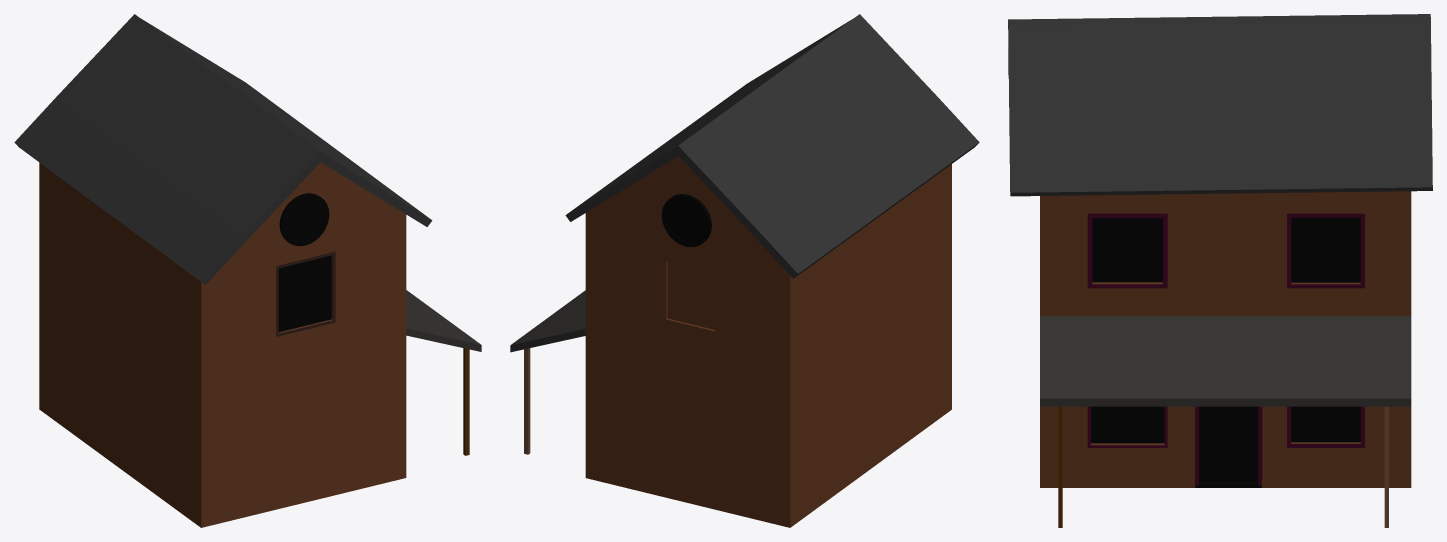
The model's file is nepali house .fbx.
The picture shows the model from 3 angles, left to right: view 1: azimuth 30°, elevation 25°; view 2: azimuth 150°, elevation 25°; view 3: azimuth 270°, elevation 25°; orthographic projection. The views are drawn at different scales.
Visible parts, largest first — view 1: main wall, roof, circle window.001, suport poll; view 2: main wall, roof, circle window.002, support poll 1; view 3: main wall, roof, suport poll, support poll 1.
Part boxes in pixels (x1,y1,x2,y2): main wall: (39,162,481,527); roof: (14,14,432,284); circle window.001: (279,193,329,246); suport poll: (463,348,469,455); main wall: (510,156,951,527); roof: (565,14,979,278); circle window.002: (661,194,711,247); support poll 1: (524,348,530,454); main wall: (1040,191,1411,487); roof: (1008,14,1432,196); suport poll: (1058,406,1062,527); support poll 1: (1384,406,1388,527).
Bounding box in the file's own units: 1319 × 1547 × 1426.
